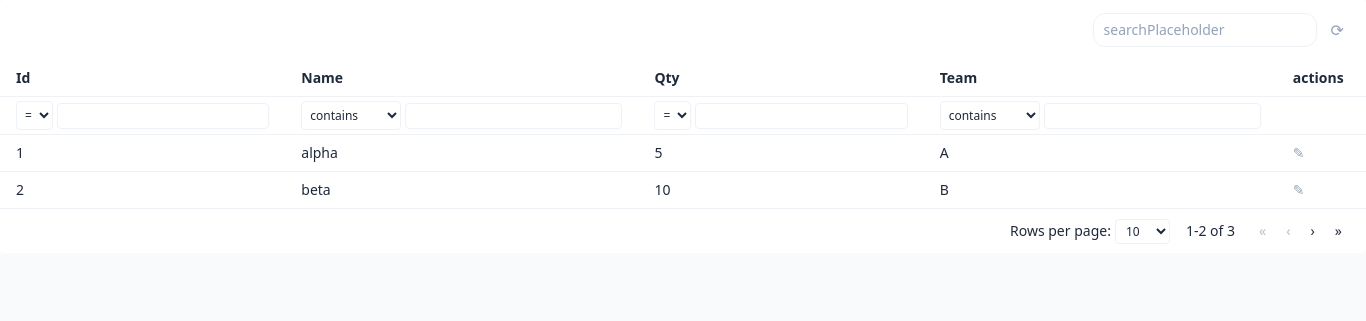
Scenario: Table › inline edit save failure shows role='alert' error banner and keeps edit mode
Click edit on first row
Click the button titled "editTooltip" in the row of "alpha" at (1299, 153), box [1293,143,1304,163]
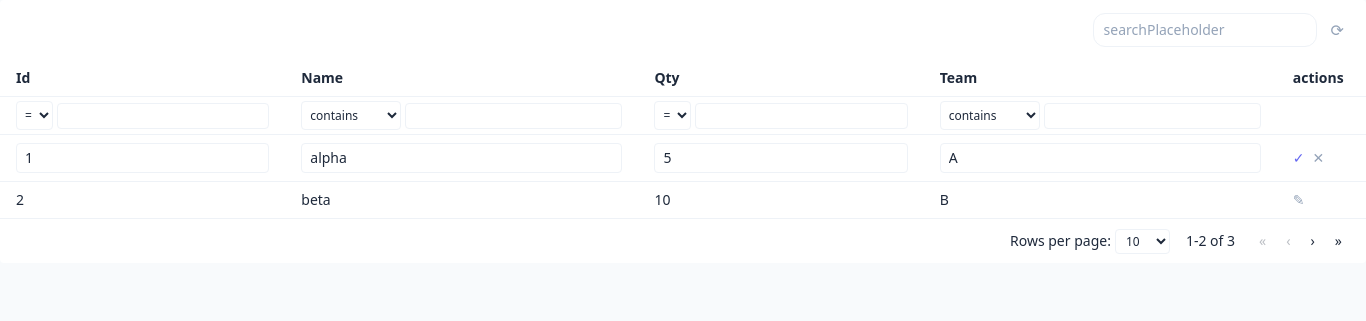
Result: the button titled "saveTooltip" is shown
Click save
Click the button titled "saveTooltip" at (1299, 158), box [1293,148,1304,168]
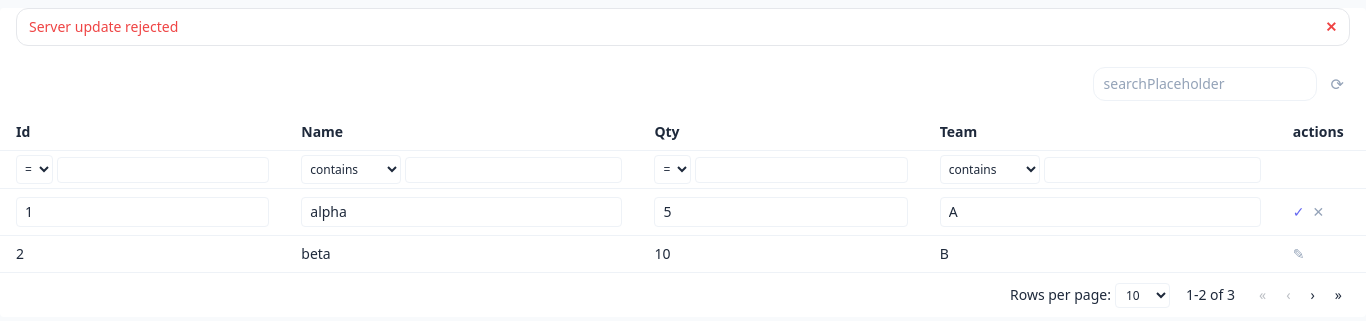
Result: the button titled "saveTooltip" is shown at [1293,202,1304,222]
Result: the message shows "Server update rejected" at [29,17,178,36]
